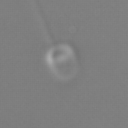normal: (25, 1, 59, 46)
